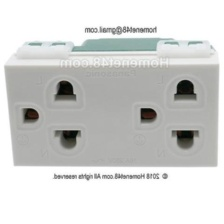three_eye_plug: (2, 35, 220, 170)
